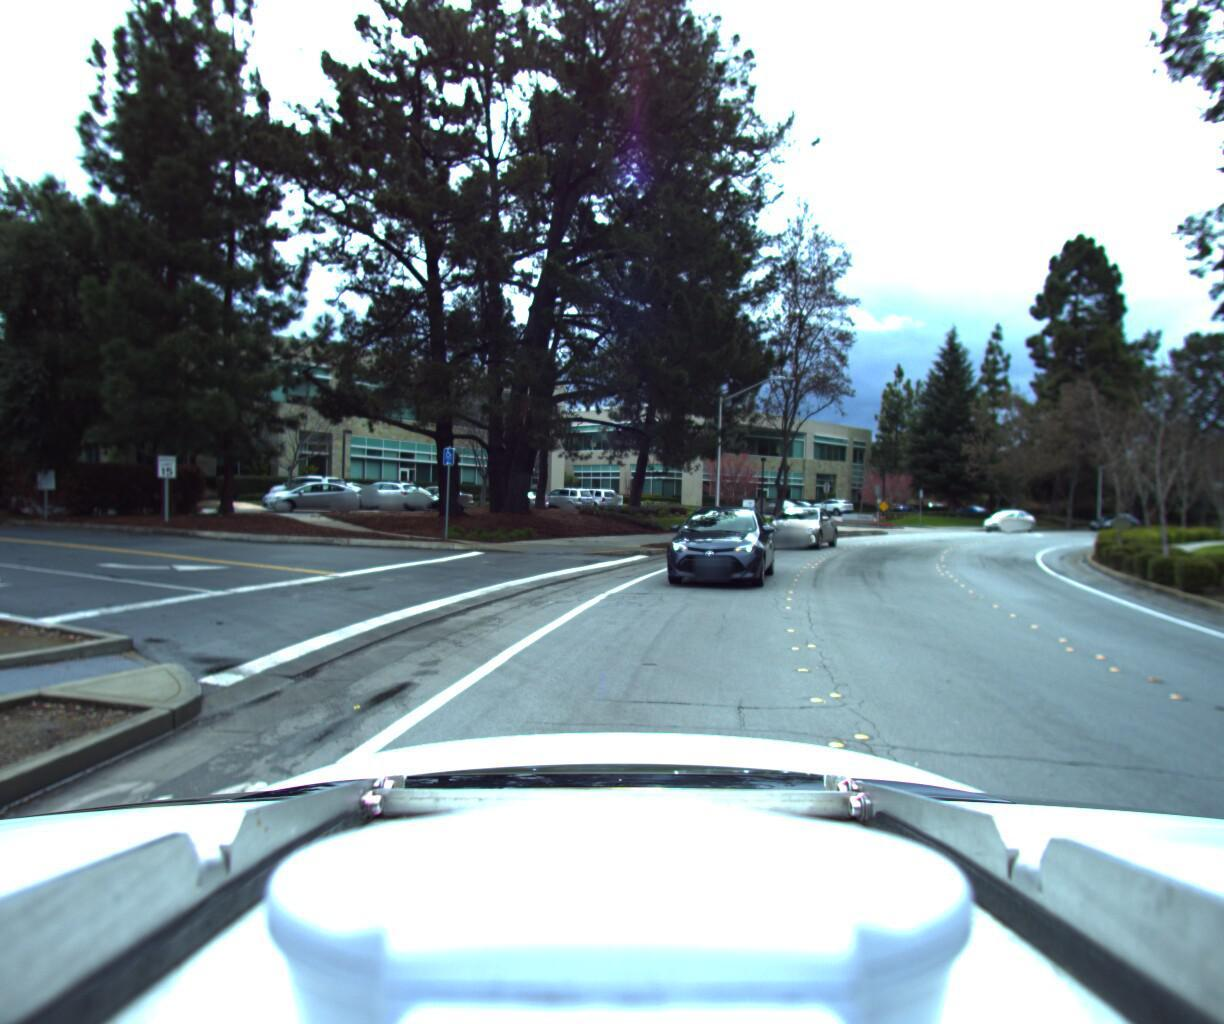car: (650, 501, 775, 594), (751, 498, 831, 547), (974, 503, 1032, 531)
